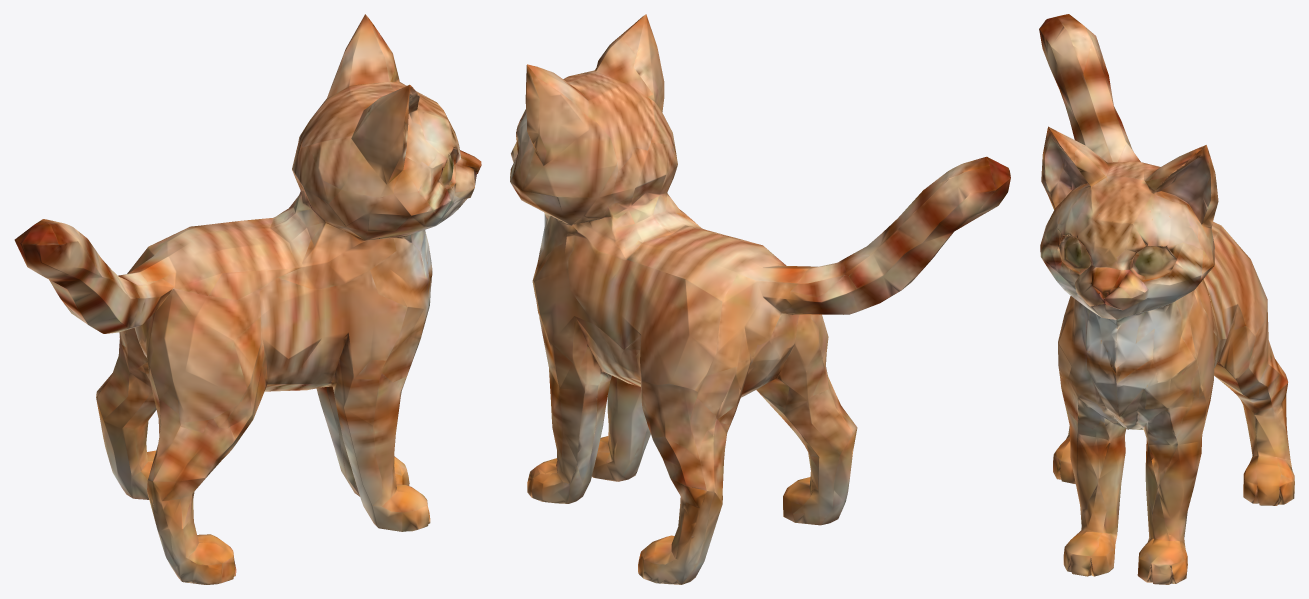
The model's file is HOVERPAW-lo.glb.
The picture shows the model from 3 angles, left to right: view 1: azimuth 30°, elevation 25°; view 2: azimuth 150°, elevation 25°; view 3: azimuth 270°, elevation 25°; orthographic projection. The views are drawn at different scales.
Parts seen in each view (by area): view 1: fit; view 2: fit; view 3: fit.
Part boxes in pixels (x1,y1,x2,y2): fit: (14, 14, 481, 584); fit: (510, 14, 1010, 584); fit: (1039, 14, 1294, 584).
Bounding box in the file's own units: 1.1 × 1 × 0.534.
1 material, 1 textured.
